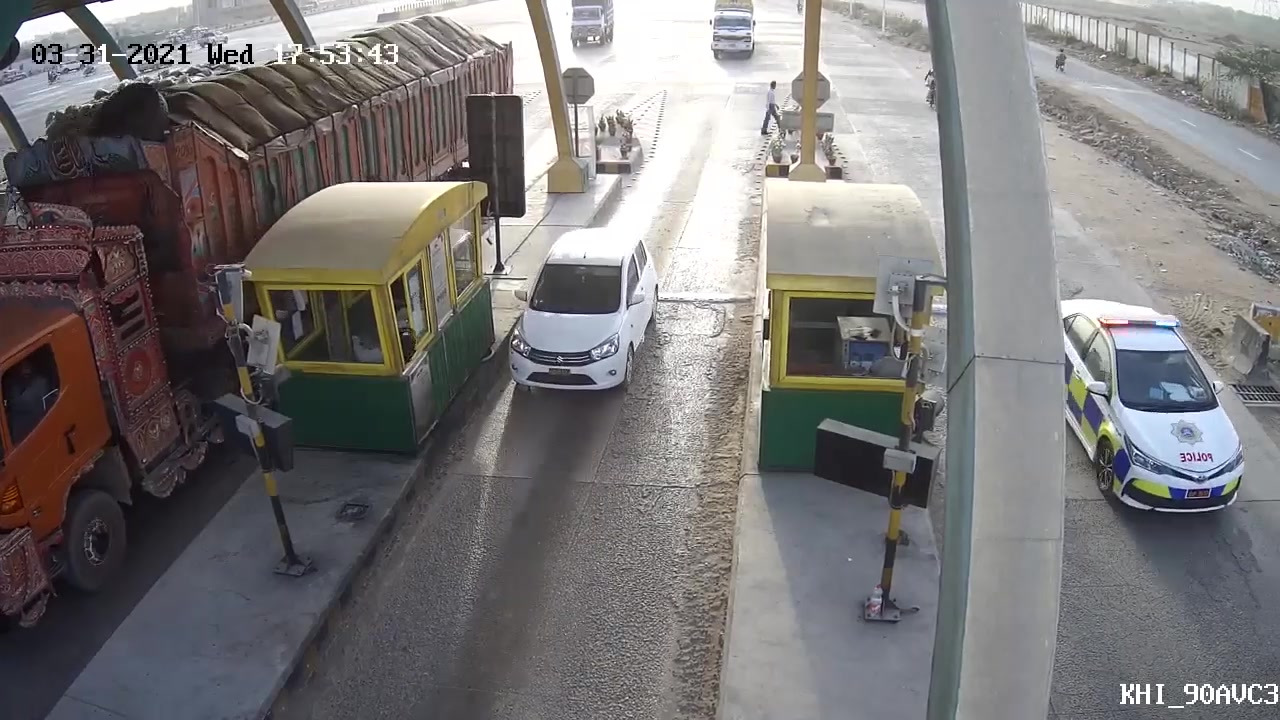F6: (504, 222, 665, 435)
